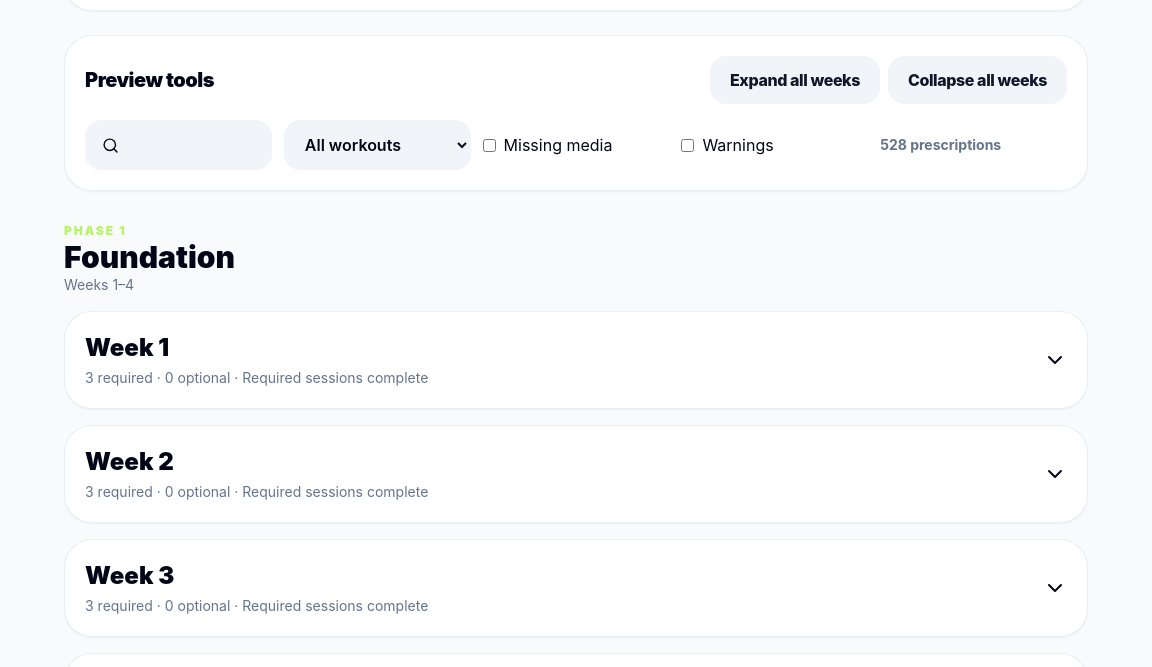
it: Administrator Managed Program preview › uses localized exercise names with stable keys as secondary metadata and semantic targets
This screenshot has width=1152, height=667.
(page scrolled)
Expected: the heading "Foundation" is shown, [64, 239, 235, 275]
Step 1. Click the button with aria-label "Week 1 · Expand" → x=127, y=348, box [85, 332, 1067, 388]
(page scrolled)
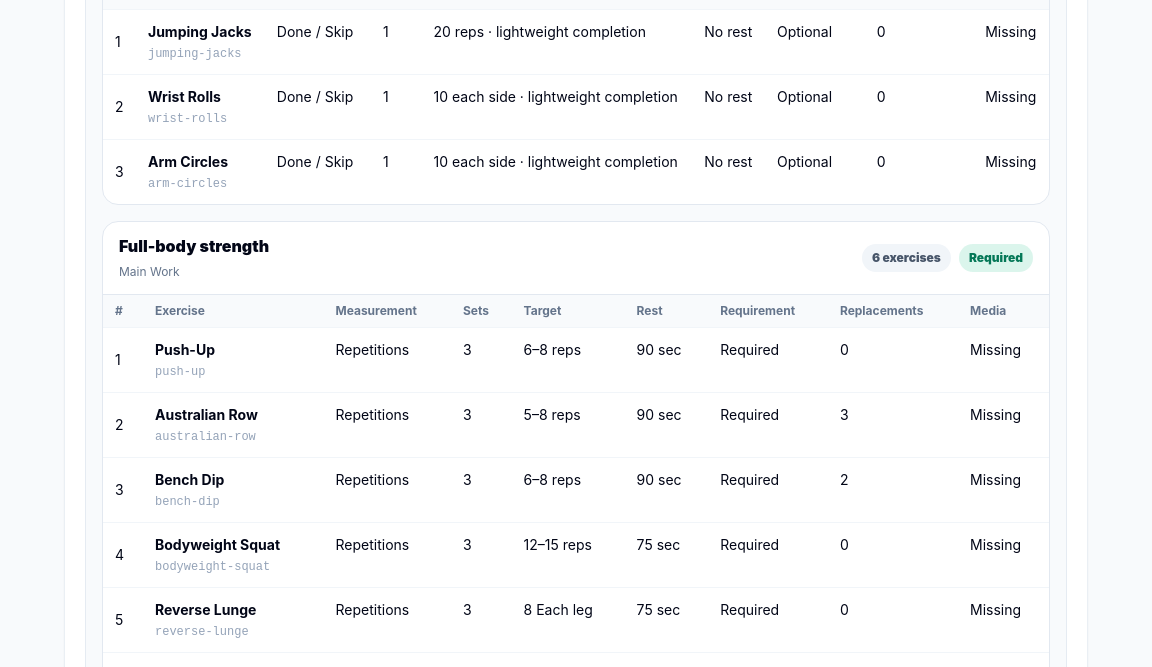
Result: the text "Jumping Jacks" is shown at [148, 22, 253, 42]
Result: the text "jumping-jacks" is shown at [148, 47, 242, 61]
Result: the 1st text "Done / Skip" is shown at [265, 10, 371, 74]
